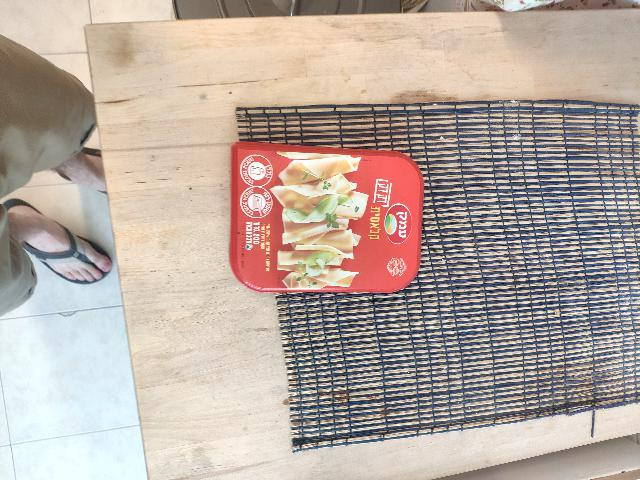cheese: (301, 188, 473, 433)
